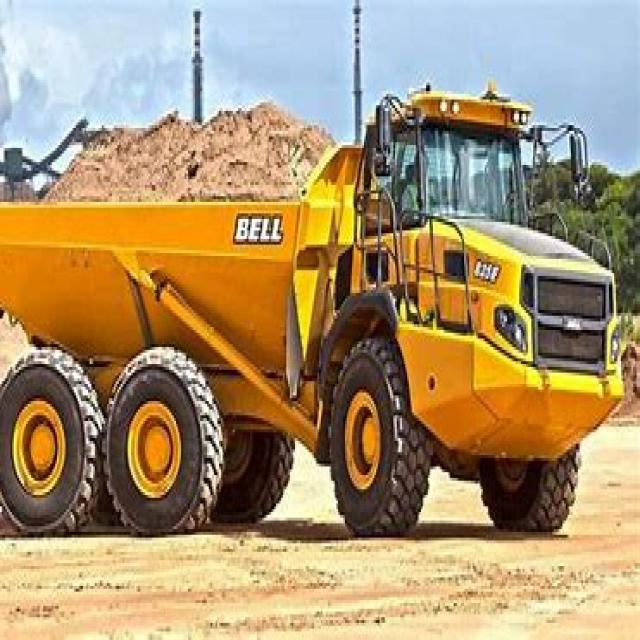dump_truck: (0, 51, 638, 549)
